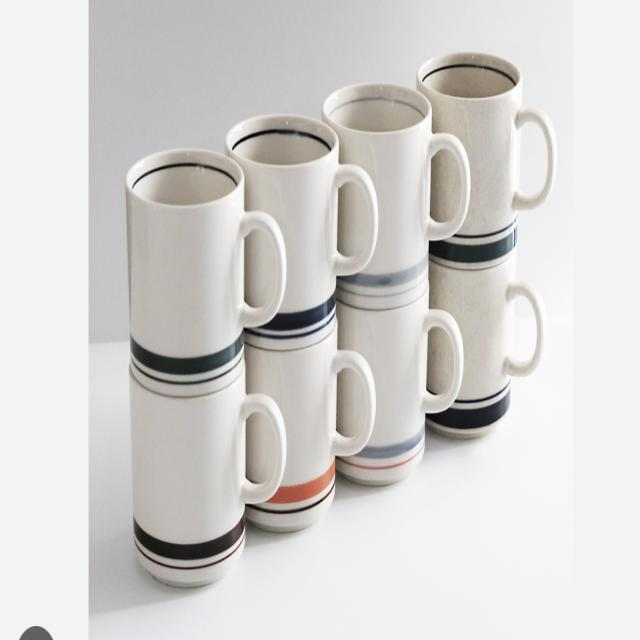recyclable: (120, 133, 284, 381), (126, 348, 286, 598), (319, 71, 473, 268), (342, 278, 464, 484)
